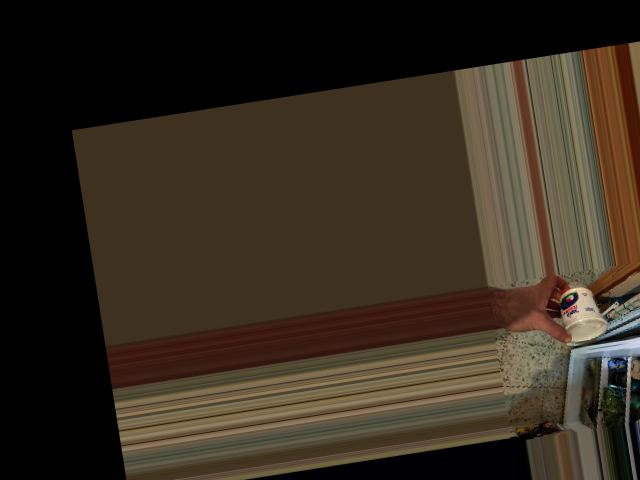cotage: (552, 285, 609, 344)
